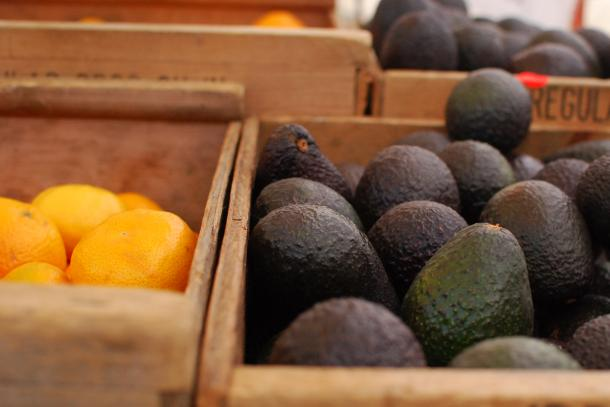fit_avocado: (254, 186, 389, 316), (445, 59, 530, 154), (361, 138, 463, 217)
